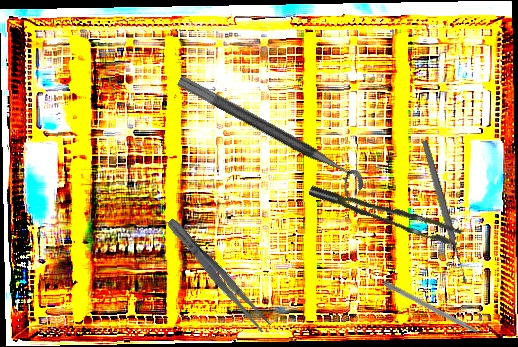Dressing Forceps: (162, 214, 274, 335)
Fixation Ring: (167, 73, 369, 205)
Pusher: (381, 280, 496, 345)
Surgical Spoon: (419, 139, 470, 284)
Tissue Forceps: (308, 165, 463, 261)
